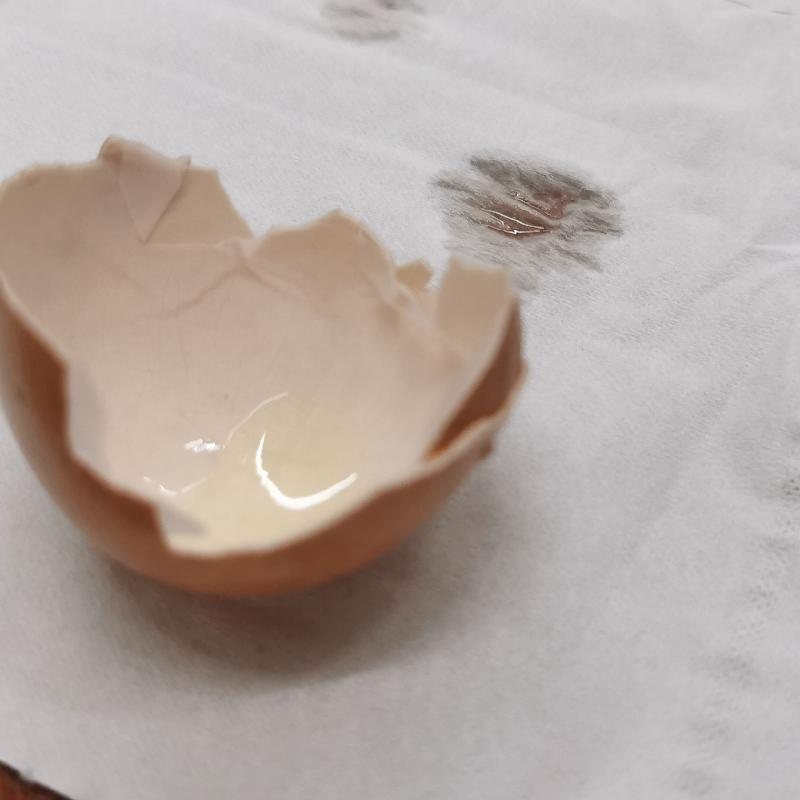eggshell: (7, 134, 524, 615)
